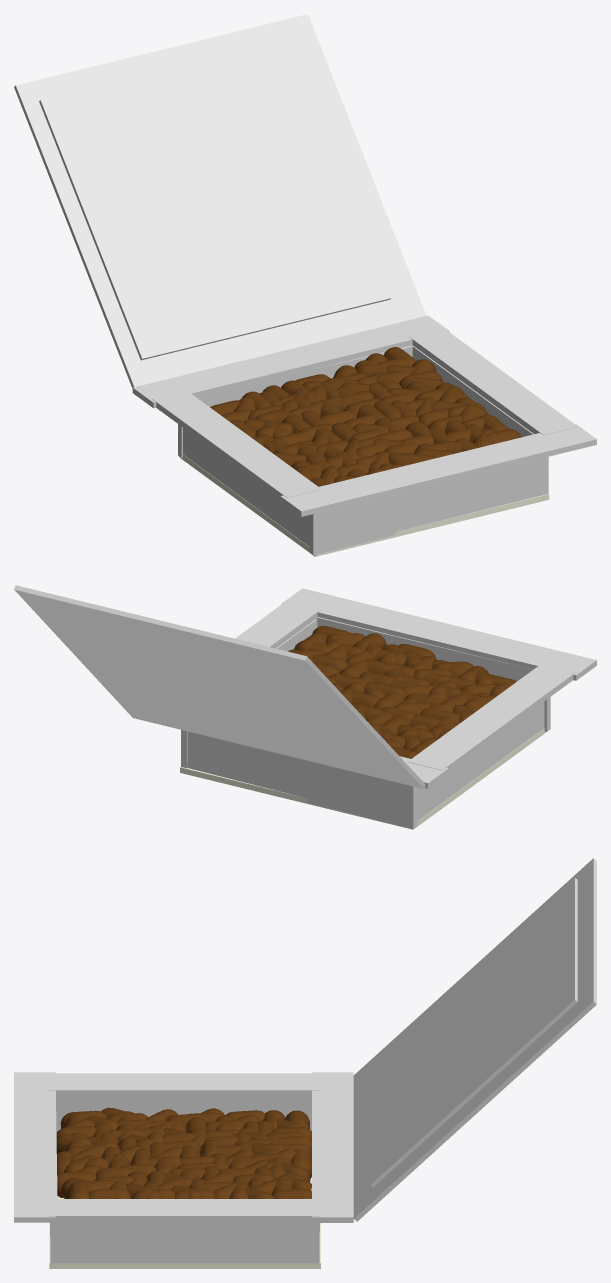
The model's file is Natto.fbx.
3 renders of one model, top to bottom at view 1: azimuth 30°, elevation 25°; view 2: azimuth 150°, elevation 25°; view 3: azimuth 270°, elevation 25°, orthographic.
Parts seen in each view (by area): view 1: Cube.010, Cube.009, Cube.004, Cube.007, Cube.008, Cube.005, Cube.006, Cube.002, Cube, Cube.003, Cube.001; view 2: Cube.009, Cube.003, Cube.007, Cube.006, Cube.002, Cube.004, Cube.005, Cube, Cube.001, Cube.008, Mball.014; view 3: Cube.010, Cube.001, Cube.009, Cube.005, Cube.007, Cube.008, Cube.006, Cube.002, Cube.
Boxes of the visible parts, x1,y1,x2,y2 form: Cube.010: (39, 39, 391, 360); Cube.009: (14, 14, 426, 388); Cube.004: (309, 457, 547, 555); Cube.007: (280, 424, 596, 516); Cube.008: (132, 315, 449, 408); Cube.005: (409, 328, 577, 435); Cube.006: (152, 390, 321, 498); Cube.002: (183, 428, 322, 551); Cube: (180, 454, 549, 556); Cube.003: (178, 345, 412, 458); Cube.001: (411, 345, 548, 495); Cube.009: (14, 585, 425, 788); Cube.003: (187, 731, 416, 828); Cube.007: (281, 588, 596, 680); Cube.006: (408, 663, 576, 770); Cube.002: (417, 702, 544, 820); Cube.004: (316, 617, 550, 731); Cube.005: (235, 601, 320, 648); Cube: (180, 728, 546, 829); Cube.001: (181, 619, 317, 768); Cube.008: (399, 756, 448, 788); Mball.014: (312, 654, 347, 672); Cube.010: (370, 877, 577, 1187); Cube.001: (50, 1222, 319, 1263); Cube.009: (353, 858, 596, 1221); Cube.005: (48, 1199, 319, 1221); Cube.007: (14, 1072, 55, 1222); Cube.008: (312, 1072, 353, 1222); Cube.006: (49, 1073, 319, 1093); Cube.002: (56, 1093, 311, 1132); Cube: (49, 1177, 320, 1268).
Size of the model in its own units: 855 by 774 by 1451.
